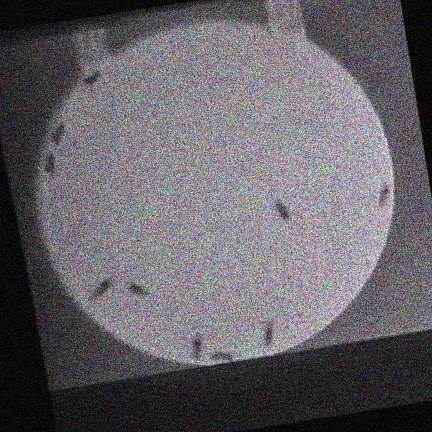fly: (89, 278, 113, 300), (125, 282, 148, 298), (50, 124, 64, 146), (263, 322, 274, 348), (275, 201, 289, 221), (82, 71, 99, 86), (378, 186, 390, 207), (43, 153, 54, 175), (210, 352, 233, 362), (192, 335, 201, 360)
